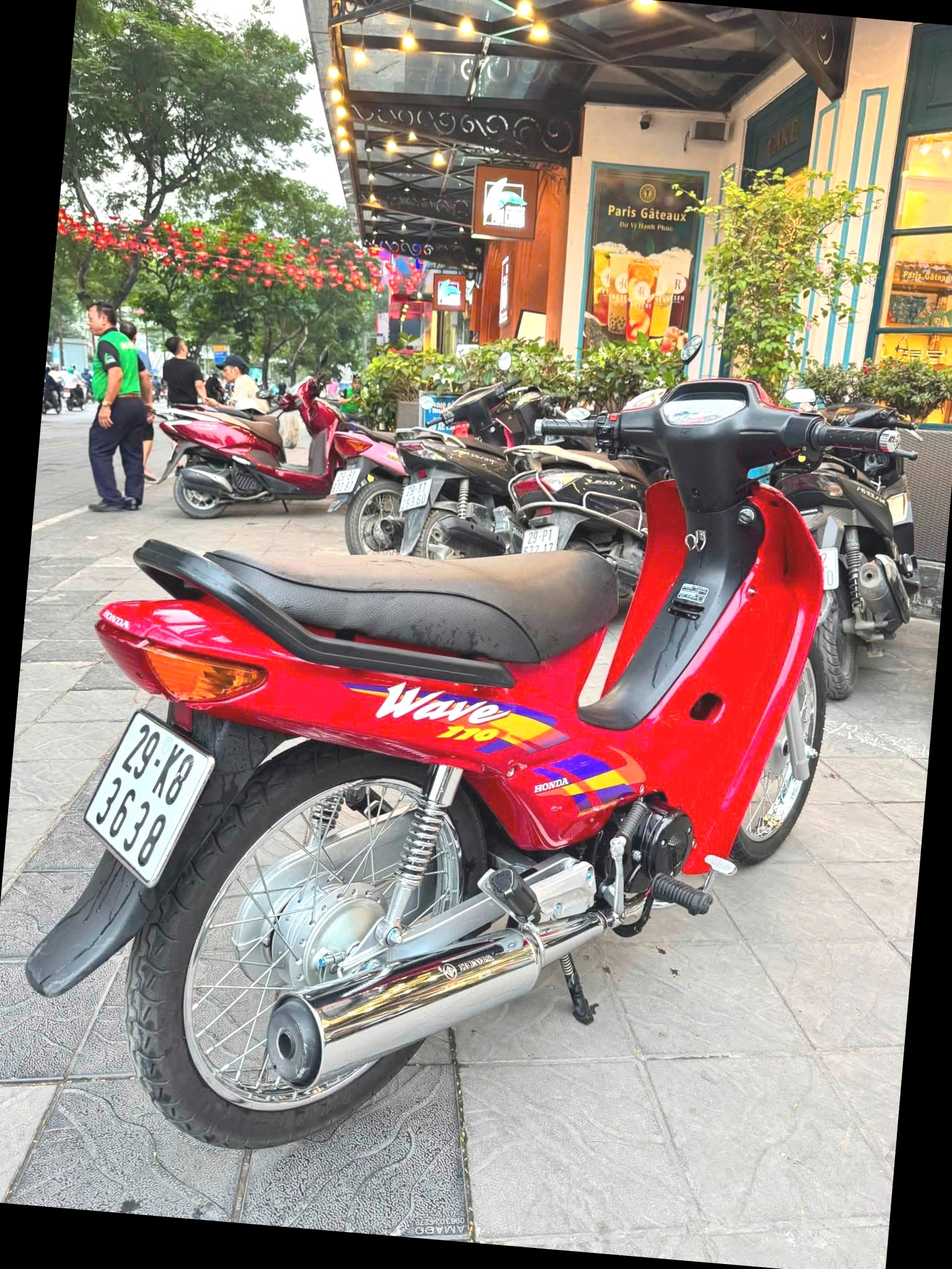Bien-so: (74, 732, 226, 930), (531, 557, 570, 591), (405, 510, 439, 545)
